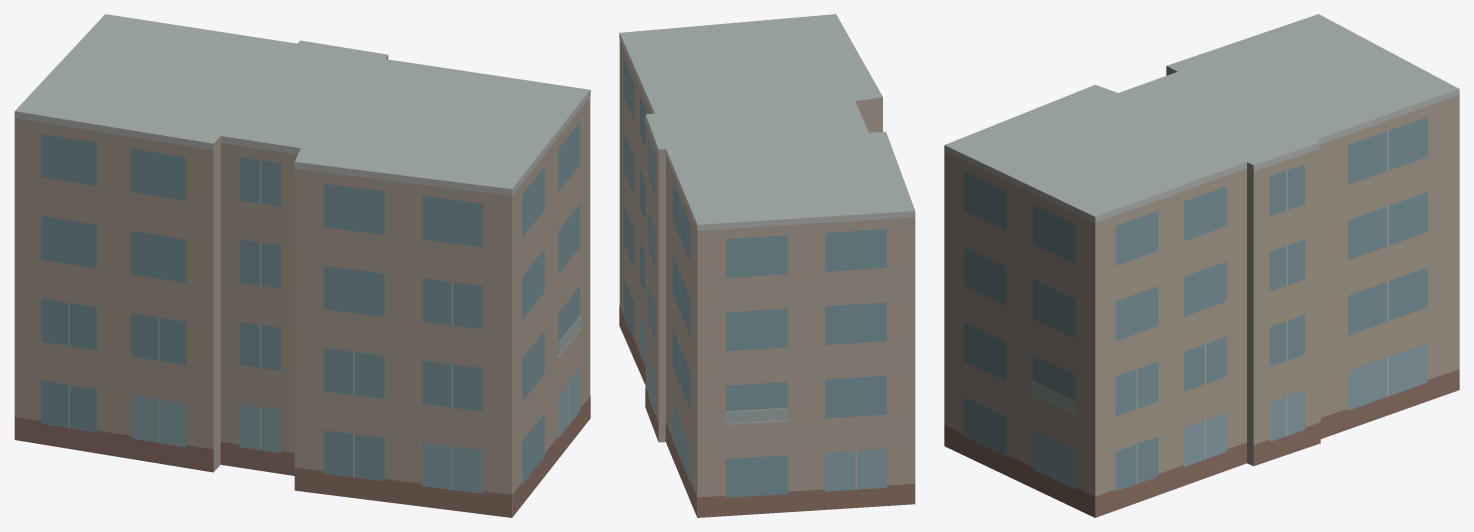
File: survey-upis-32628910.glb
3 renders of one model, left to right at view 1: azimuth 30°, elevation 25°; view 2: azimuth 150°, elevation 25°; view 3: azimuth 270°, elevation 25°, orthographic. The views are drawn at different scales.
Visible parts, largest first — view 1: survey-upis-32628910.tmp; view 2: survey-upis-32628910.tmp; view 3: survey-upis-32628910.tmp.
Part boxes in pixels (x1,y1,x2,y2): survey-upis-32628910.tmp: (14,14,590,517); survey-upis-32628910.tmp: (619,14,915,517); survey-upis-32628910.tmp: (944,14,1459,517).
Size of the model in its own units: 17.06 by 11.8 by 18.3.
